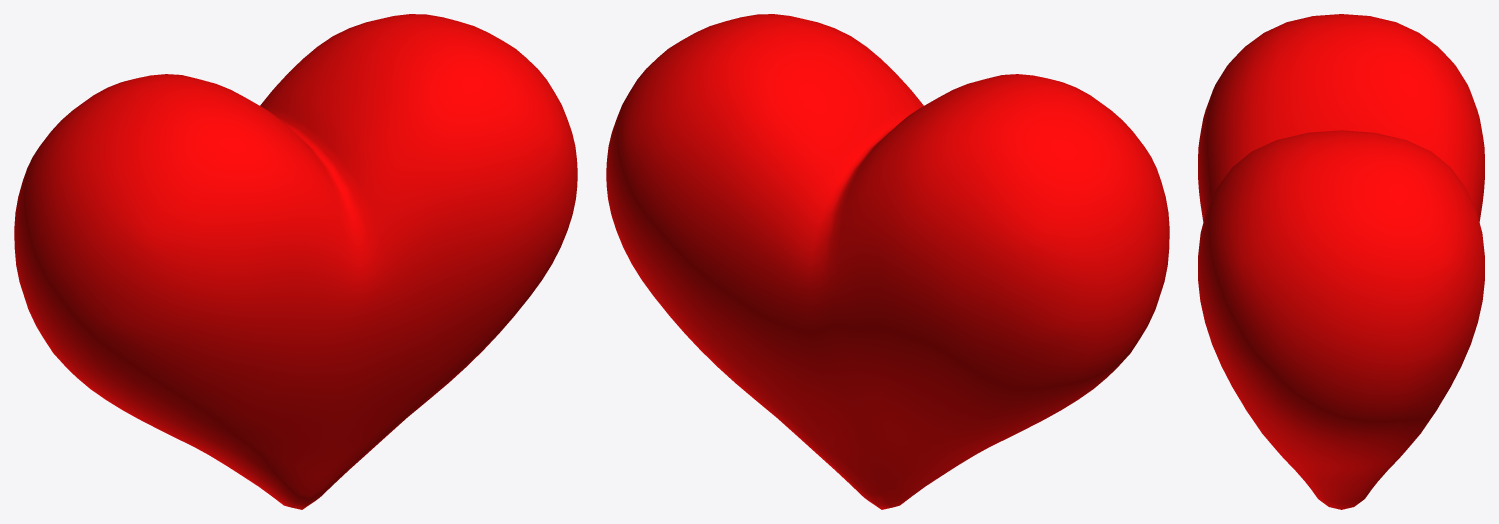
File: heart.glb
The picture shows the model from 3 angles, left to right: view 1: azimuth 30°, elevation 25°; view 2: azimuth 150°, elevation 25°; view 3: azimuth 270°, elevation 25°; orthographic projection. The views are drawn at different scales.
Visible parts, largest first — view 1: Cube__0; view 2: Cube__0; view 3: Cube__0.
Part boxes in pixels (x1,y1,x2,y2): Cube__0: (14,14,577,509); Cube__0: (606,14,1169,509); Cube__0: (1198,14,1484,509).
Bounding box in the file's own units: 7.65 × 6.27 × 3.83.
